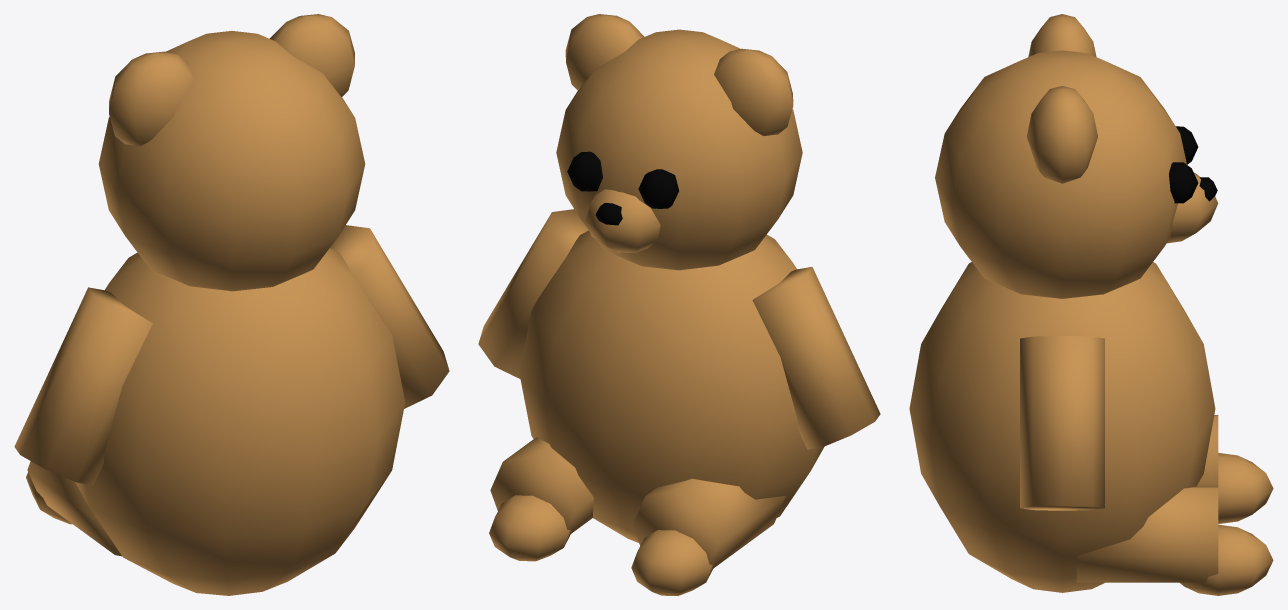
Rendered from bear_sitting.glb.
3 renders of one model, left to right at view 1: azimuth 30°, elevation 25°; view 2: azimuth 150°, elevation 25°; view 3: azimuth 270°, elevation 25°, orthographic. The views are drawn at different scales.
Visible parts, largest first — view 1: BearSitting; view 2: BearSitting; view 3: BearSitting.
Boxes of the visible parts, x1=… form: BearSitting: x1=14, y1=14, x2=449, y2=595; BearSitting: x1=478, y1=14, x2=880, y2=595; BearSitting: x1=909, y1=14, x2=1273, y2=595.
Size of the model in its own units: 1.65 by 2.04 by 1.28.
